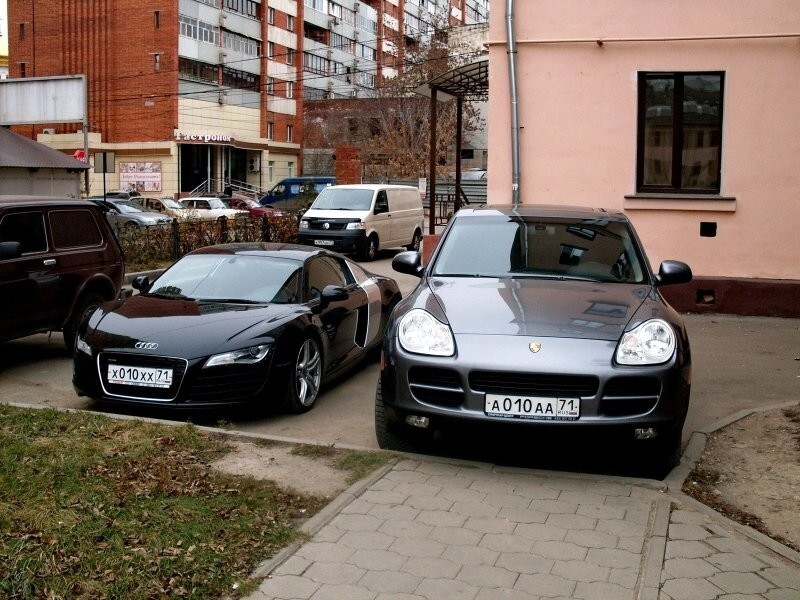number_plate: (482, 392, 581, 417), (106, 362, 177, 387)
